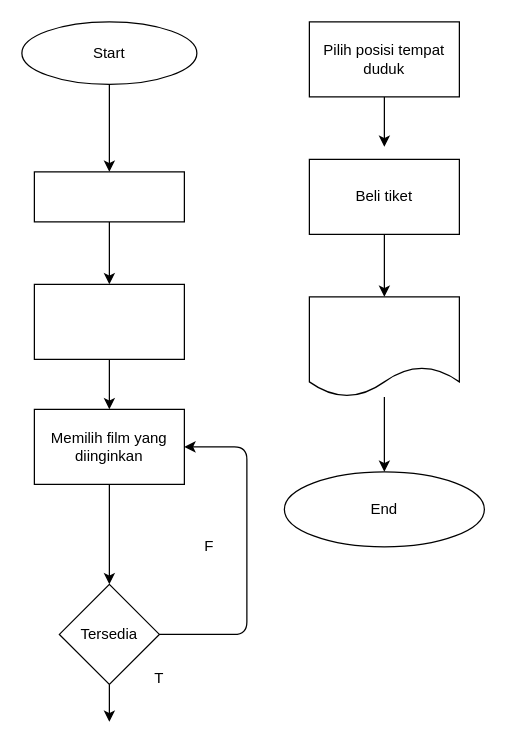
Image size: 506x754. Some labels were removed from this diagram. Each missing label, with the centre of its shape:
"Daftar, Login/Masuk Sebagai Guest" belongs at (108,196).
"Menampilkan film yang tersedia" belongs at (108,321).
"Print tiket" belongs at (383,346).
